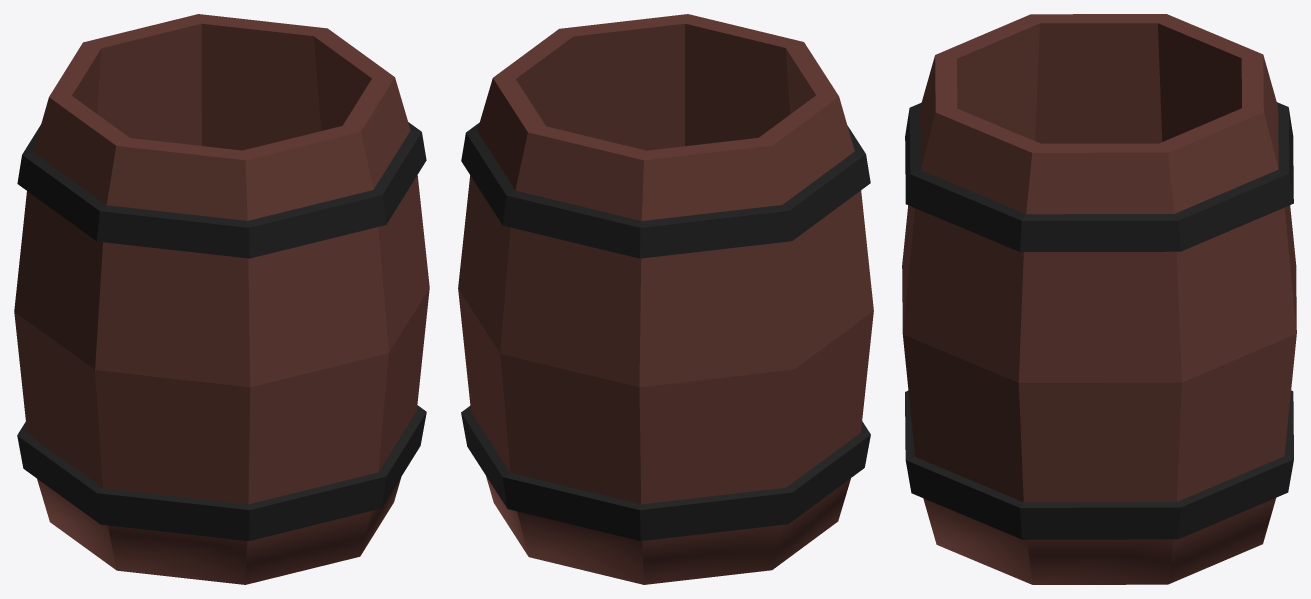
File: barrel_empty.fbx
The picture shows the model from 3 angles, left to right: view 1: azimuth 30°, elevation 25°; view 2: azimuth 150°, elevation 25°; view 3: azimuth 270°, elevation 25°; orthographic projection.
Visible parts, largest first — view 1: barrel.002; view 2: barrel.002; view 3: barrel.002.
Boxes of the visible parts, x1,y1,x2,y2 form: barrel.002: (14,14,429,584); barrel.002: (458,14,873,584); barrel.002: (902,14,1296,584).
Bounding box in the file's own units: 24.34 × 29.42 × 24.34.
